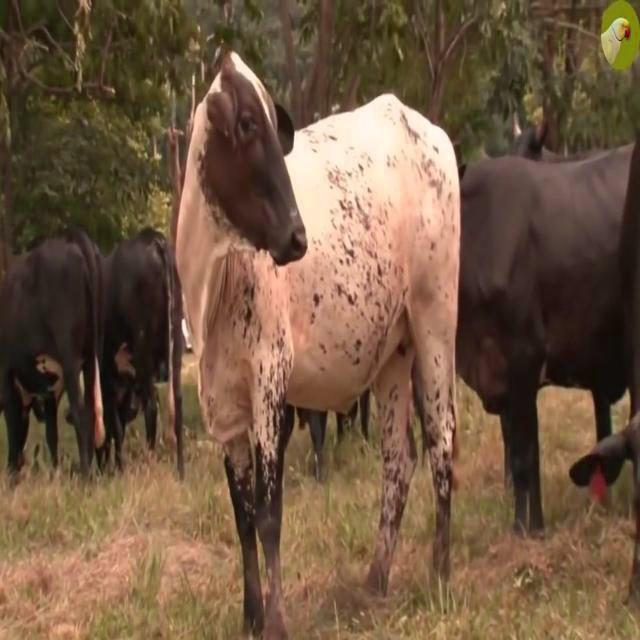cow: (176, 52, 460, 640), (458, 146, 631, 533), (0, 231, 104, 481), (100, 230, 184, 478)
